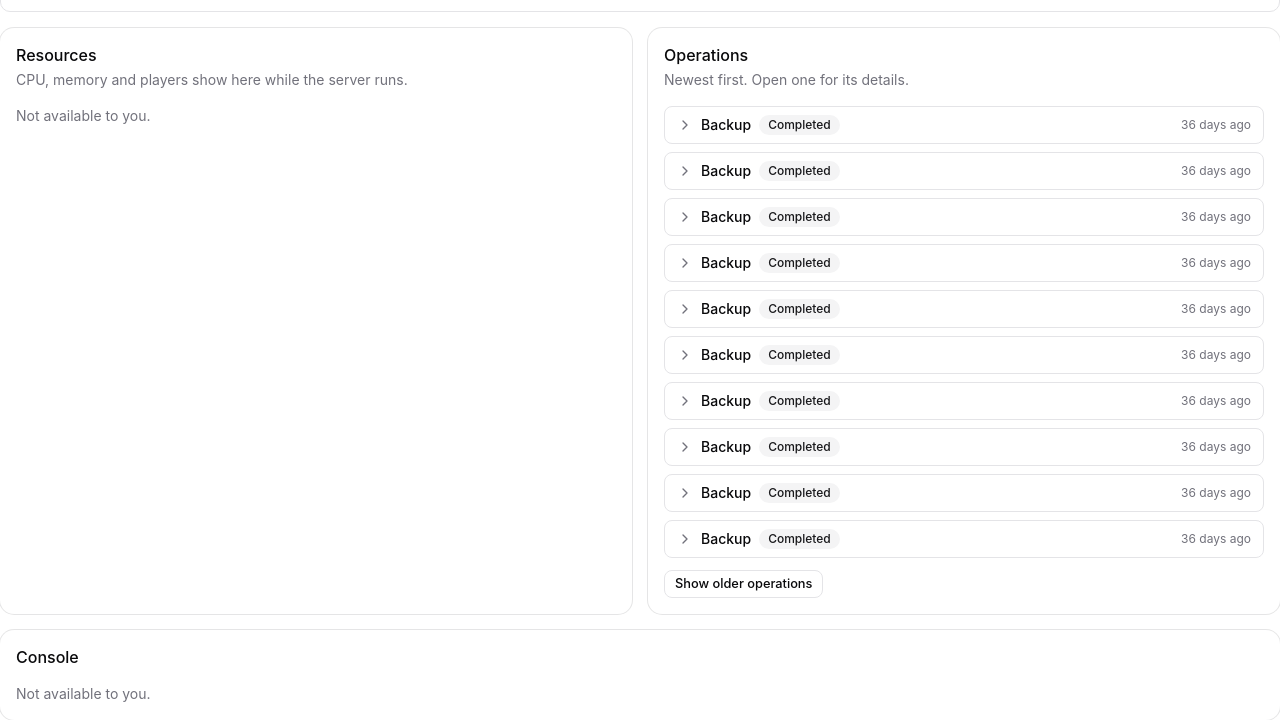
the operation history › keeps older operations on screen when a state change re-reads the newest page
This screenshot has width=1280, height=720.
(page scrolled)
Step 1. Click the button "Show older operations" → (744, 584), box [664, 570, 824, 598]
(page scrolled)
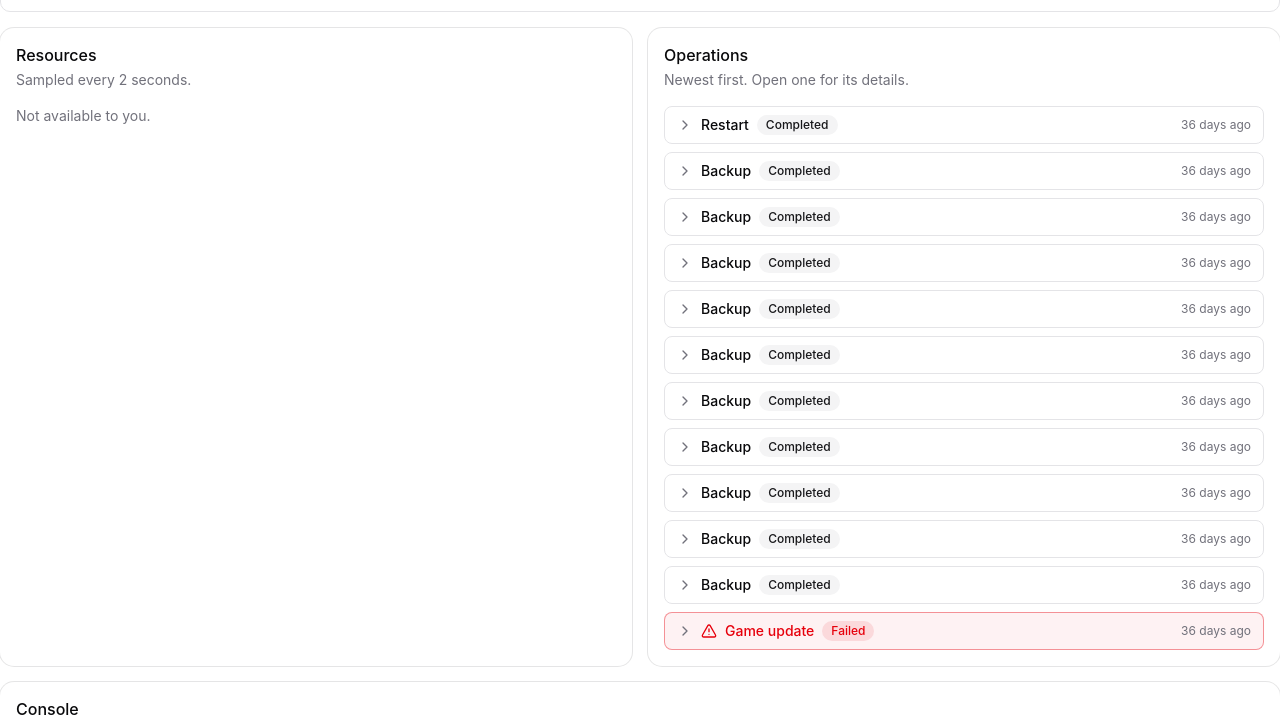
Check: the text "Restart" is shown, box [701, 115, 749, 135]
Check: the text "Game update" is shown, box [725, 621, 814, 641]
